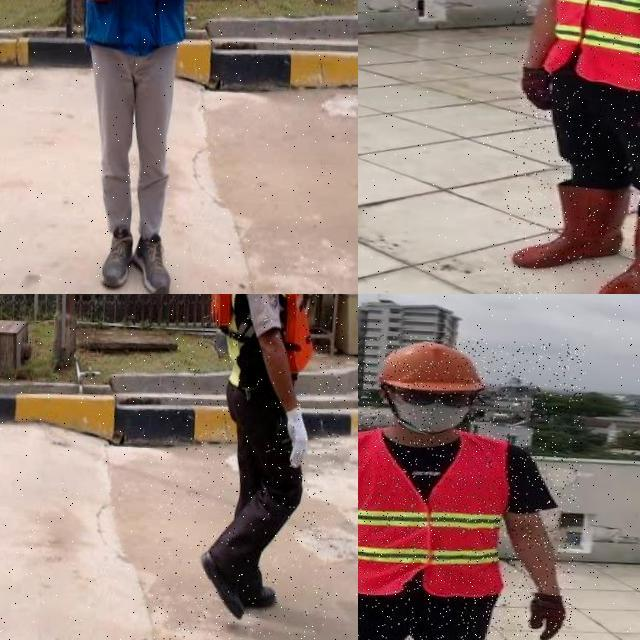boots: (511, 182, 627, 272), (196, 544, 248, 626), (601, 214, 640, 294), (132, 230, 176, 294), (100, 222, 136, 290), (228, 576, 284, 612)
helmet: (366, 333, 498, 397)
vest: (358, 428, 509, 601), (205, 294, 321, 396), (542, 0, 640, 96), (83, 0, 204, 49)
